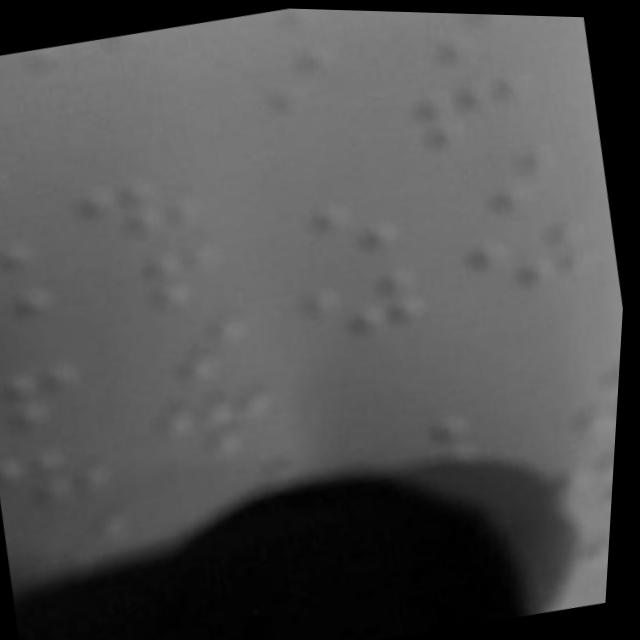braiile: (280, 254, 446, 353), (87, 229, 244, 331), (447, 207, 609, 304), (256, 173, 414, 272), (145, 377, 296, 476), (116, 306, 267, 404), (60, 161, 208, 255), (419, 136, 567, 228), (406, 59, 536, 155), (0, 429, 131, 521), (383, 9, 518, 80)
